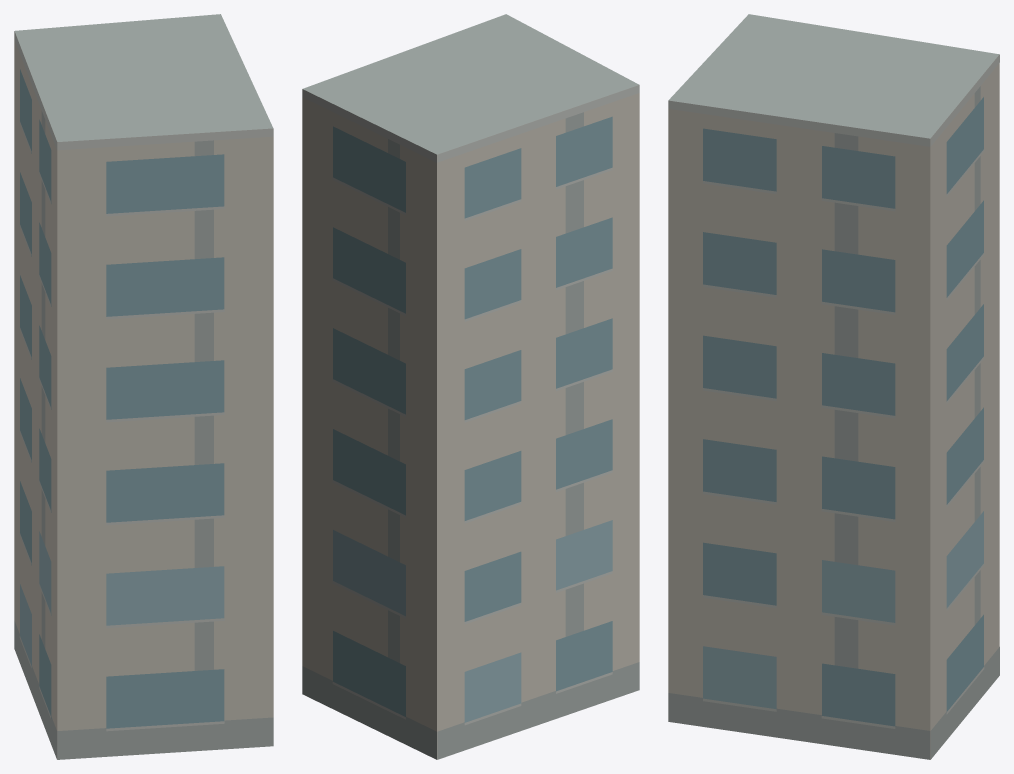
File: survey-upis-33036065.glb
The picture shows the model from 3 angles, left to right: view 1: azimuth 30°, elevation 25°; view 2: azimuth 150°, elevation 25°; view 3: azimuth 270°, elevation 25°; orthographic projection. The views are drawn at different scales.
Parts seen in each view (by area): view 1: survey-upis-33036065.tmp; view 2: survey-upis-33036065.tmp; view 3: survey-upis-33036065.tmp.
Part boxes in pixels (x1=…): survey-upis-33036065.tmp: x1=14, y1=14, x2=273, y2=759; survey-upis-33036065.tmp: x1=302, y1=14, x2=639, y2=759; survey-upis-33036065.tmp: x1=668, y1=14, x2=999, y2=759.
Size of the model in its own units: 7.88 by 18.3 by 8.86.
